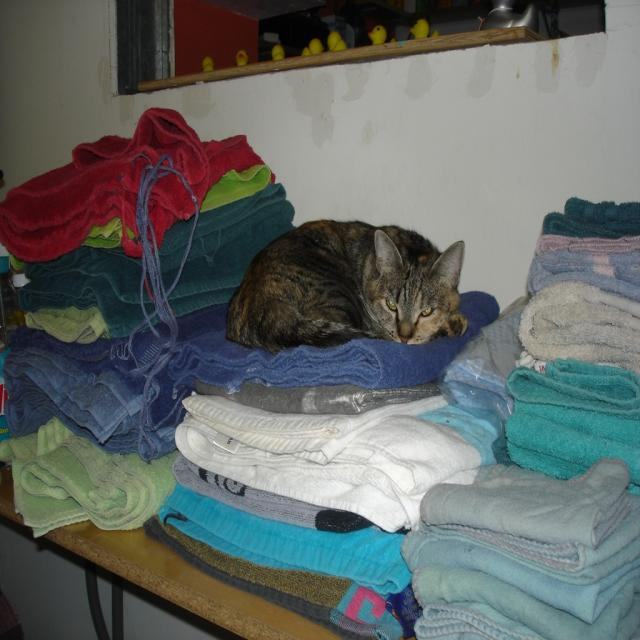Cat: (227, 218, 469, 352)
